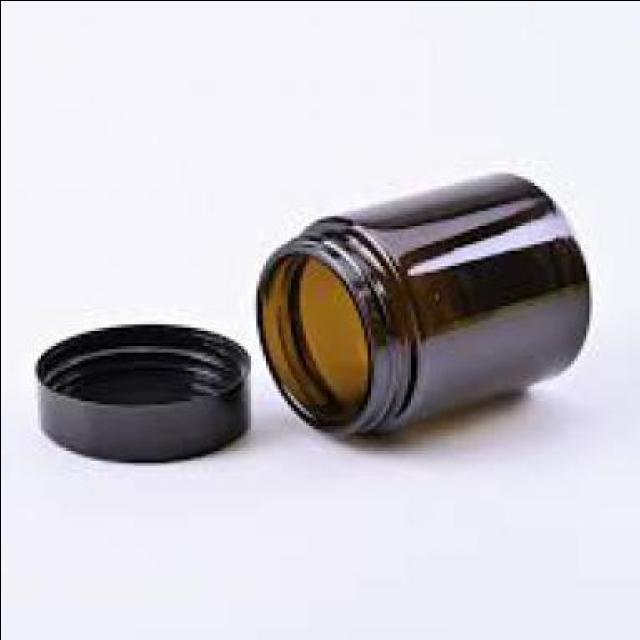kaca: (254, 170, 588, 435)
